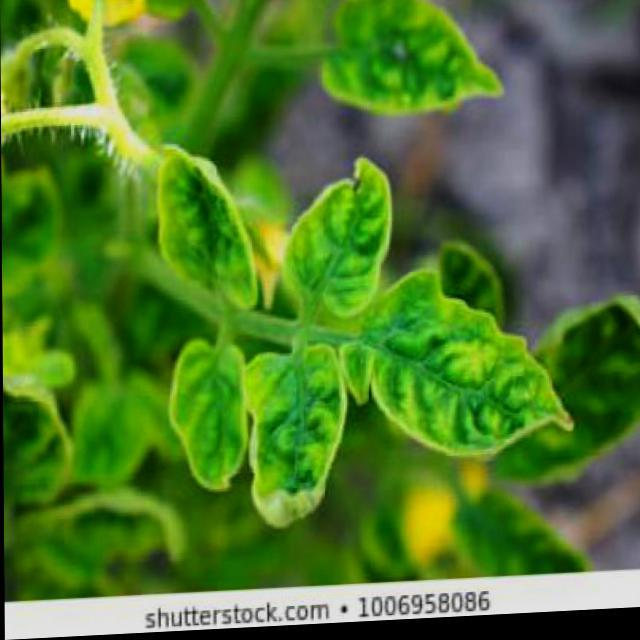Tomato healthy leaf: (348, 279, 604, 476), (322, 0, 554, 148), (238, 323, 358, 541), (286, 151, 408, 337), (150, 122, 246, 328)
